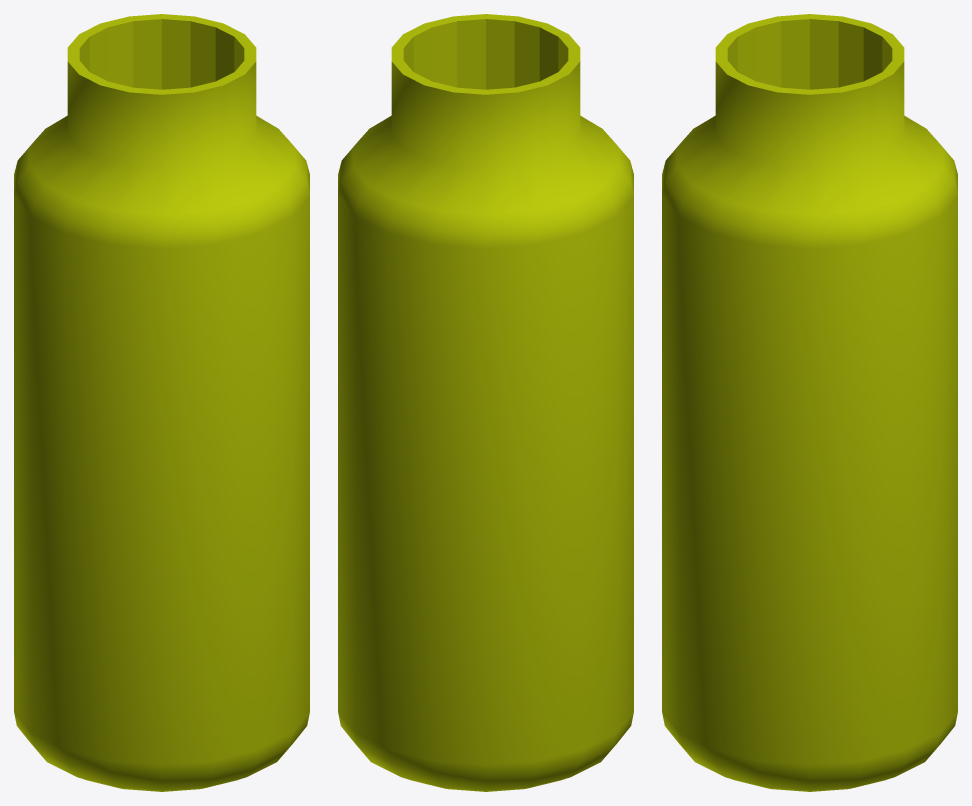
File: vase7.FBX
3 views of the same model, side by side, from view 1: azimuth 30°, elevation 25°; view 2: azimuth 150°, elevation 25°; view 3: azimuth 270°, elevation 25° (orthographic).
Visible parts, largest first — view 1: vase7; view 2: vase7; view 3: vase7.
Boxes of the visible parts, x1,y1,x2,y2 form: vase7: (14,14,309,791); vase7: (338,14,633,791); vase7: (662,14,957,791).
Size of the model in its own units: 4.76 by 4.69 by 12.04.
1 material, 1 textured.
